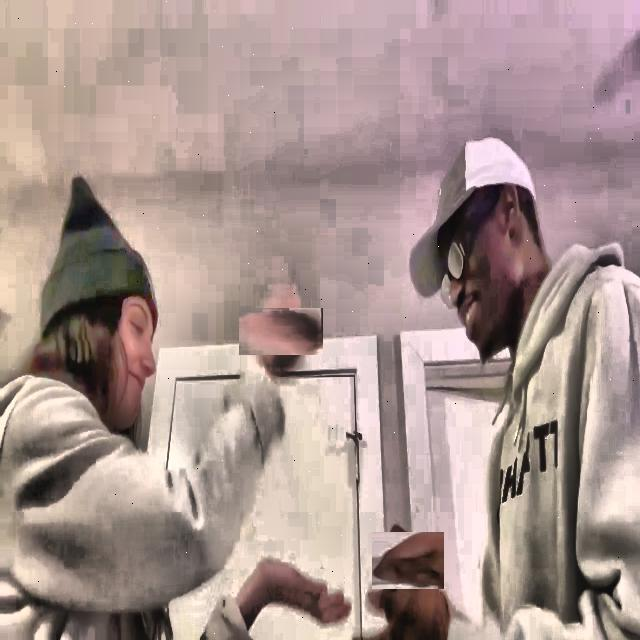not-gloved: (248, 298, 314, 364), (376, 528, 440, 592)
